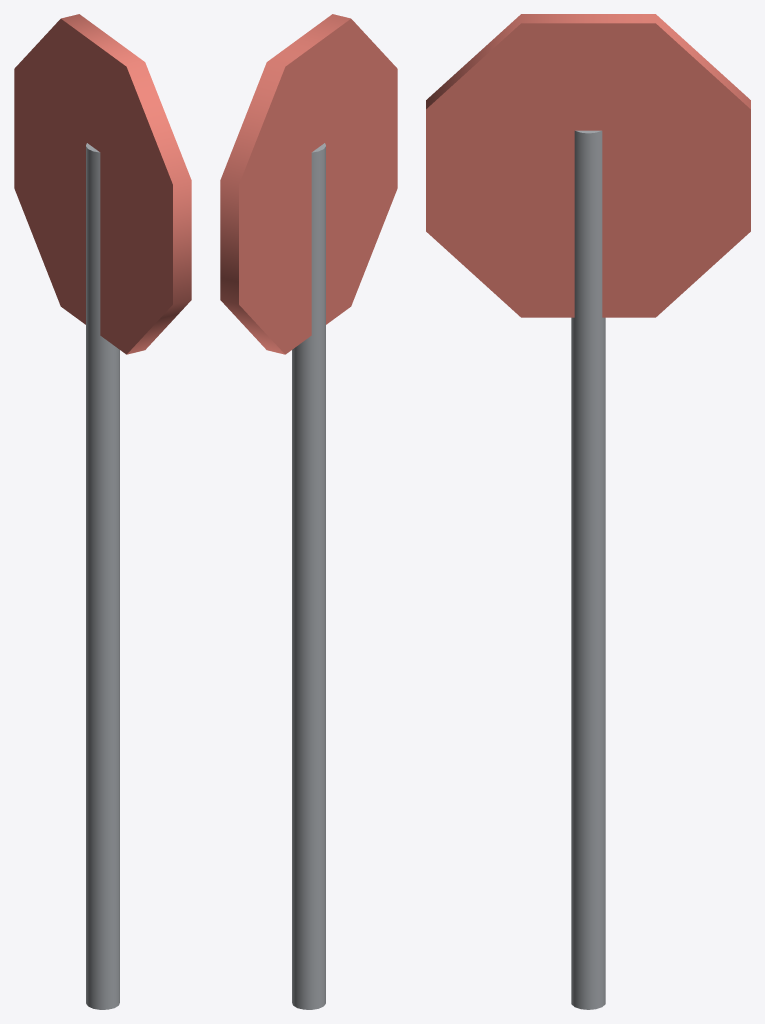
Rendered from StopSign.glb.
The picture shows the model from 3 angles, left to right: view 1: azimuth 30°, elevation 25°; view 2: azimuth 150°, elevation 25°; view 3: azimuth 270°, elevation 25°; orthographic projection. The views are drawn at different scales.
Visible parts, largest first — view 1: model; view 2: model; view 3: model.
Part boxes in pixels (x1,y1,x2,y2): model: (14, 14, 191, 1009); model: (220, 14, 397, 1009); model: (426, 14, 750, 1009).
Bounding box in the file's own units: 0.08 × 2.47 × 0.7391.
